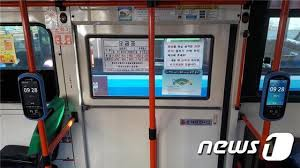in: (67, 14, 241, 168)
